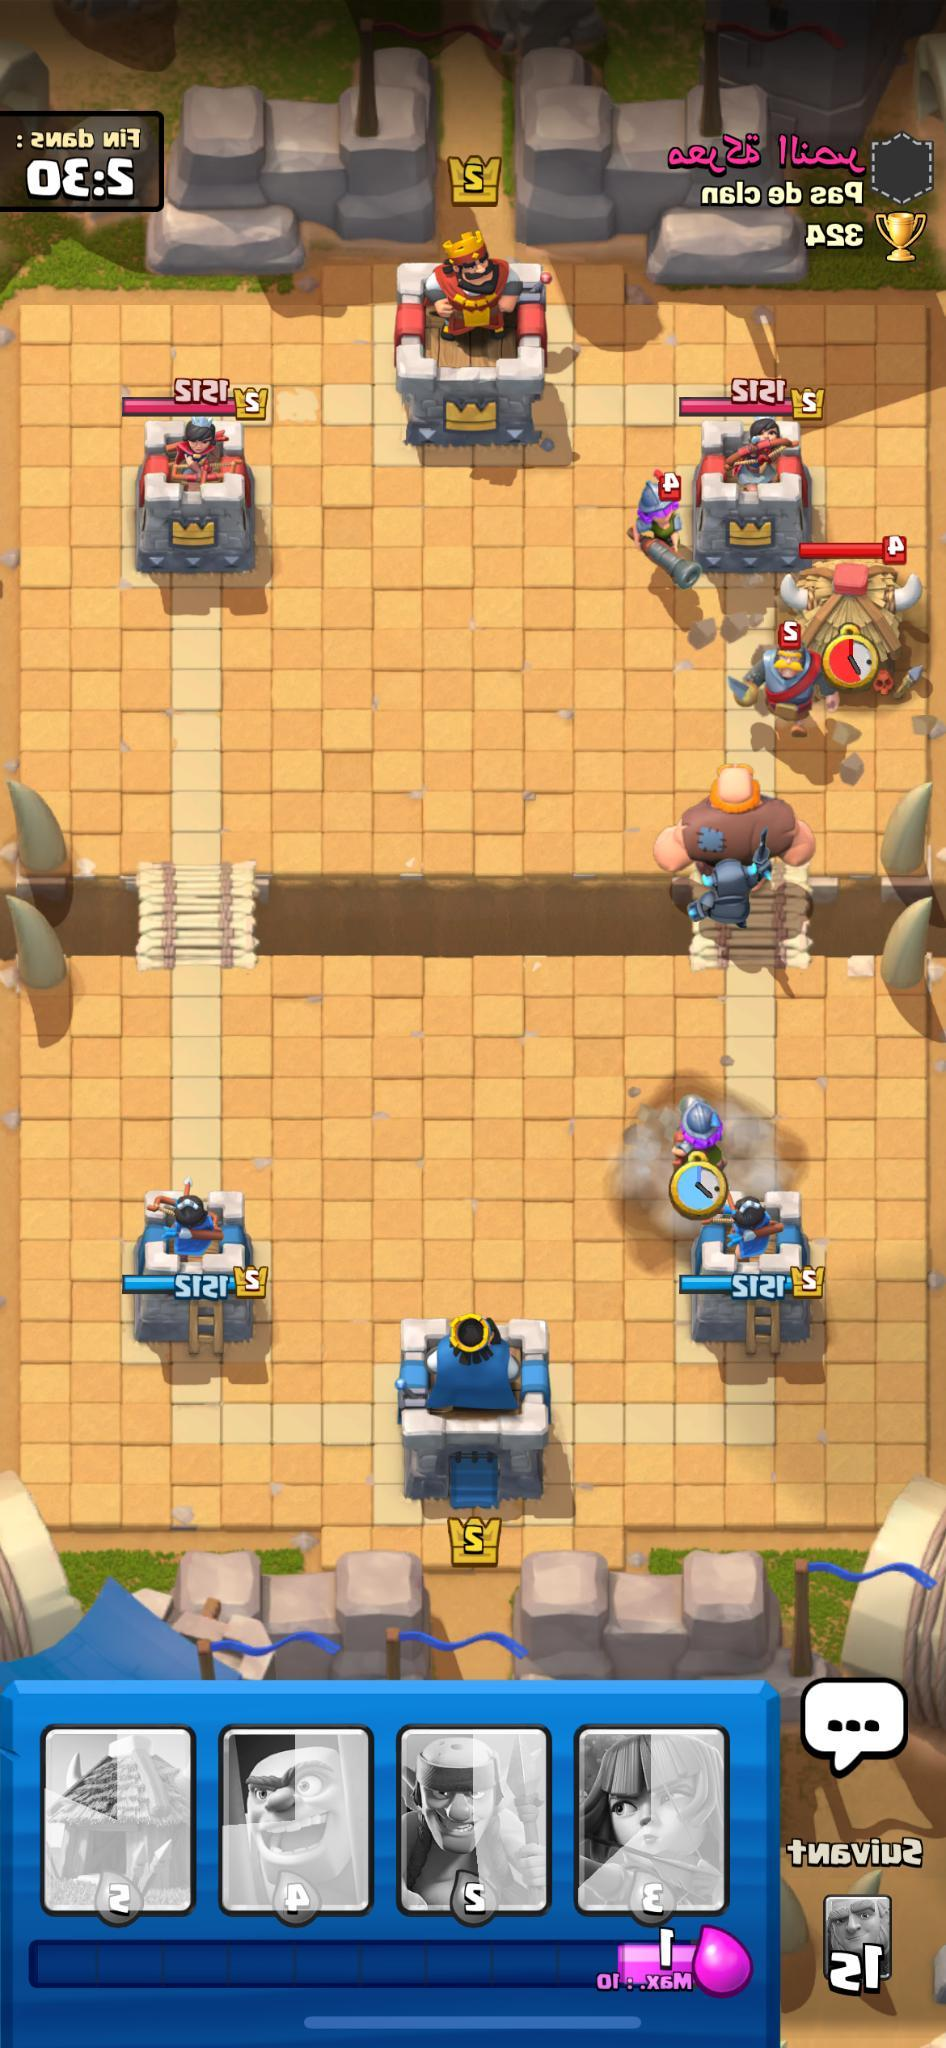enemy_goblin_hut: (772, 519, 926, 692)
enemy_knight: (738, 630, 828, 738)
enemy_musketeer: (611, 446, 706, 599)
player_giant: (651, 763, 818, 900)
player_mini_pekka: (665, 854, 782, 943)
player_musketeer: (655, 1087, 737, 1189)
